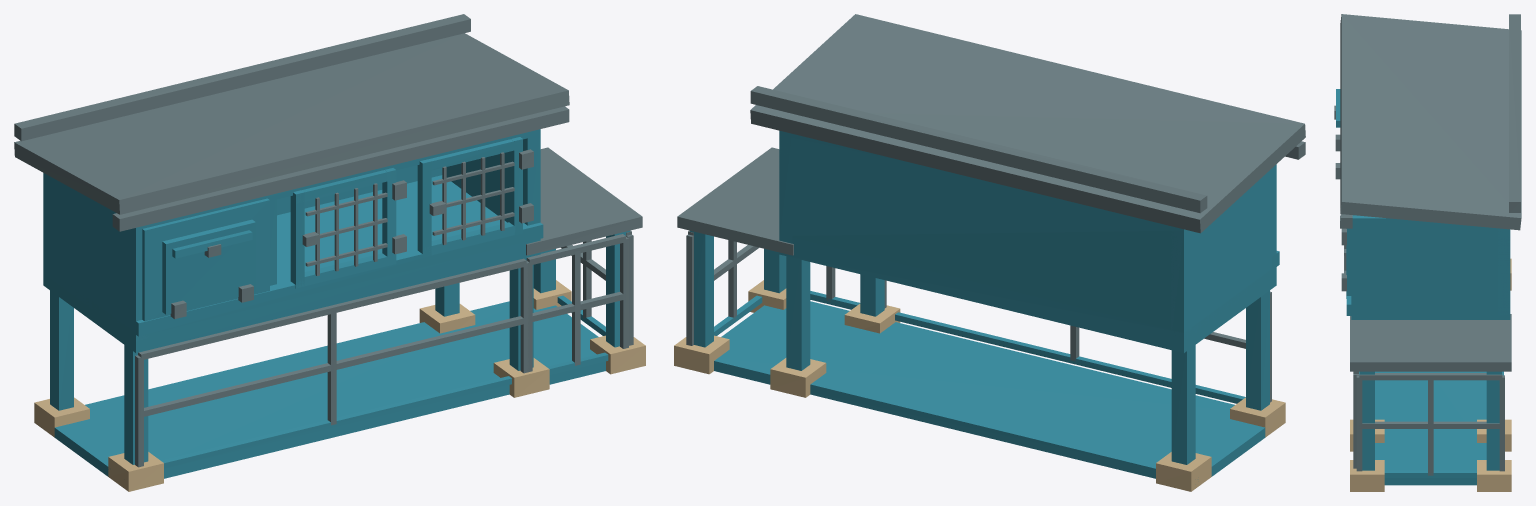
The model's file is rabbit-hutch.source.glb.
The picture shows the model from 3 angles, left to right: view 1: azimuth 30°, elevation 25°; view 2: azimuth 150°, elevation 25°; view 3: azimuth 270°, elevation 25°; orthographic projection. The views are drawn at different scales.
Parts seen in each view (by area): view 1: rabbit-hutch-shallow-single-slope-roof-mesh, rabbit-hutch-ground-run-floor-mesh, rabbit-hutch-raised-cabinet-floor-mesh, rabbit-hutch-cabinet-left-wall-mesh, rabbit-hutch-high-roof-edge-mesh, rabbit-hutch-low-roof-edge-mesh, rabbit-hutch-side-run-awning-mesh, rabbit-hutch-solid-service-hatch-panel-mesh, rabbit-hutch-front-lower-rail-mesh, rabbit-hutch-sleeping-box-front-panel-mesh, rabbit-hutch-front-under-hutch-mesh-horizontal-0-mesh, rabbit-hutch-front-under-hutch-mesh-horizontal-0.34-mesh (+31 smaller); view 2: rabbit-hutch-shallow-single-slope-roof-mesh, rabbit-hutch-cabinet-back-panel-mesh, rabbit-hutch-ground-run-floor-mesh, rabbit-hutch-raised-cabinet-floor-mesh, rabbit-hutch-cabinet-left-wall-mesh, rabbit-hutch-high-roof-edge-mesh, rabbit-hutch-side-run-awning-mesh, rabbit-hutch-front-under-hutch-mesh-horizontal--0.34-mesh, rabbit-hutch-slender-leg--1.2--0.4-mesh, rabbit-hutch-slender-leg-1.2--0.4-mesh, rabbit-hutch-slender-leg--1.2-0.4-mesh, rabbit-hutch-slender-leg-1.8--0.4-mesh (+10 smaller); view 3: rabbit-hutch-shallow-single-slope-roof-mesh, rabbit-hutch-cabinet-right-wall-mesh, rabbit-hutch-ground-run-floor-mesh, rabbit-hutch-side-run-awning-mesh, rabbit-hutch-high-roof-edge-mesh, rabbit-hutch-slender-leg-1.8--0.4-mesh, rabbit-hutch-cabinet-back-panel-mesh, rabbit-hutch-slender-leg-1.8-0.4-mesh, rabbit-hutch-right-side-run-mesh-horizontal-0.34-mesh, rabbit-hutch-right-side-run-mesh-horizontal-0-mesh, rabbit-hutch-stone-foot-1.8--0.4-mesh, rabbit-hutch-stone-foot-1.8-0.4-mesh (+10 smaller).
Boxes of the visible parts, left/top/right/bottom form: rabbit-hutch-shallow-single-slope-roof-mesh: left=14, top=33, right=569, bottom=214; rabbit-hutch-ground-run-floor-mesh: left=54, top=301, right=605, bottom=478; rabbit-hutch-raised-cabinet-floor-mesh: left=43, top=175, right=540, bottom=352; rabbit-hutch-cabinet-left-wall-mesh: left=43, top=173, right=148, bottom=341; rabbit-hutch-high-roof-edge-mesh: left=14, top=14, right=470, bottom=141; rabbit-hutch-low-roof-edge-mesh: left=112, top=106, right=569, bottom=231; rabbit-hutch-side-run-awning-mesh: left=526, top=147, right=642, bottom=255; rabbit-hutch-solid-service-hatch-panel-mesh: left=162, top=219, right=255, bottom=314; rabbit-hutch-front-lower-rail-mesh: left=134, top=222, right=543, bottom=336; rabbit-hutch-sleeping-box-front-panel-mesh: left=142, top=198, right=269, bottom=321; rabbit-hutch-front-under-hutch-mesh-horizontal-0-mesh: left=142, top=316, right=523, bottom=416; rabbit-hutch-front-under-hutch-mesh-horizontal-0.34-mesh: left=138, top=258, right=526, bottom=359; rabbit-hutch-shallow-single-slope-roof-mesh: left=750, top=14, right=1305, bottom=233; rabbit-hutch-cabinet-back-panel-mesh: left=779, top=135, right=1191, bottom=332; rabbit-hutch-ground-run-floor-mesh: left=714, top=301, right=1265, bottom=478; rabbit-hutch-raised-cabinet-floor-mesh: left=779, top=237, right=1276, bottom=352; rabbit-hutch-cabinet-left-wall-mesh: left=1171, top=164, right=1276, bottom=338; rabbit-hutch-high-roof-edge-mesh: left=750, top=86, right=1207, bottom=213; rabbit-hutch-side-run-awning-mesh: left=677, top=147, right=793, bottom=255; rabbit-hutch-front-under-hutch-mesh-horizontal--0.34-mesh: left=895, top=312, right=1245, bottom=403; rabbit-hutch-slender-leg--1.2--0.4-mesh: left=1171, top=345, right=1195, bottom=464; rabbit-hutch-slender-leg-1.2--0.4-mesh: left=786, top=256, right=810, bottom=370; rabbit-hutch-slender-leg--1.2-0.4-mesh: left=1246, top=290, right=1269, bottom=410; rabbit-hutch-slender-leg-1.8--0.4-mesh: left=690, top=230, right=713, bottom=347; rabbit-hutch-shallow-single-slope-roof-mesh: left=1340, top=14, right=1521, bottom=230; rabbit-hutch-cabinet-right-wall-mesh: left=1351, top=224, right=1510, bottom=319; rabbit-hutch-ground-run-floor-mesh: left=1359, top=371, right=1503, bottom=485; rabbit-hutch-side-run-awning-mesh: left=1350, top=314, right=1511, bottom=371; rabbit-hutch-high-roof-edge-mesh: left=1509, top=14, right=1520, bottom=212; rabbit-hutch-slender-leg-1.8--0.4-mesh: left=1486, top=371, right=1501, bottom=470; rabbit-hutch-cabinet-back-panel-mesh: left=1497, top=228, right=1510, bottom=315; rabbit-hutch-slender-leg-1.8-0.4-mesh: left=1359, top=371, right=1374, bottom=470; rabbit-hutch-right-side-run-mesh-horizontal-0.34-mesh: left=1359, top=373, right=1502, bottom=380; rabbit-hutch-right-side-run-mesh-horizontal-0-mesh: left=1359, top=421, right=1501, bottom=428; rabbit-hutch-stone-foot-1.8--0.4-mesh: left=1477, top=460, right=1511, bottom=491; rabbit-hutch-stone-foot-1.8-0.4-mesh: left=1350, top=460, right=1384, bottom=491.
Size of the model in its own units: 3.31 by 1.78 by 1.18.
